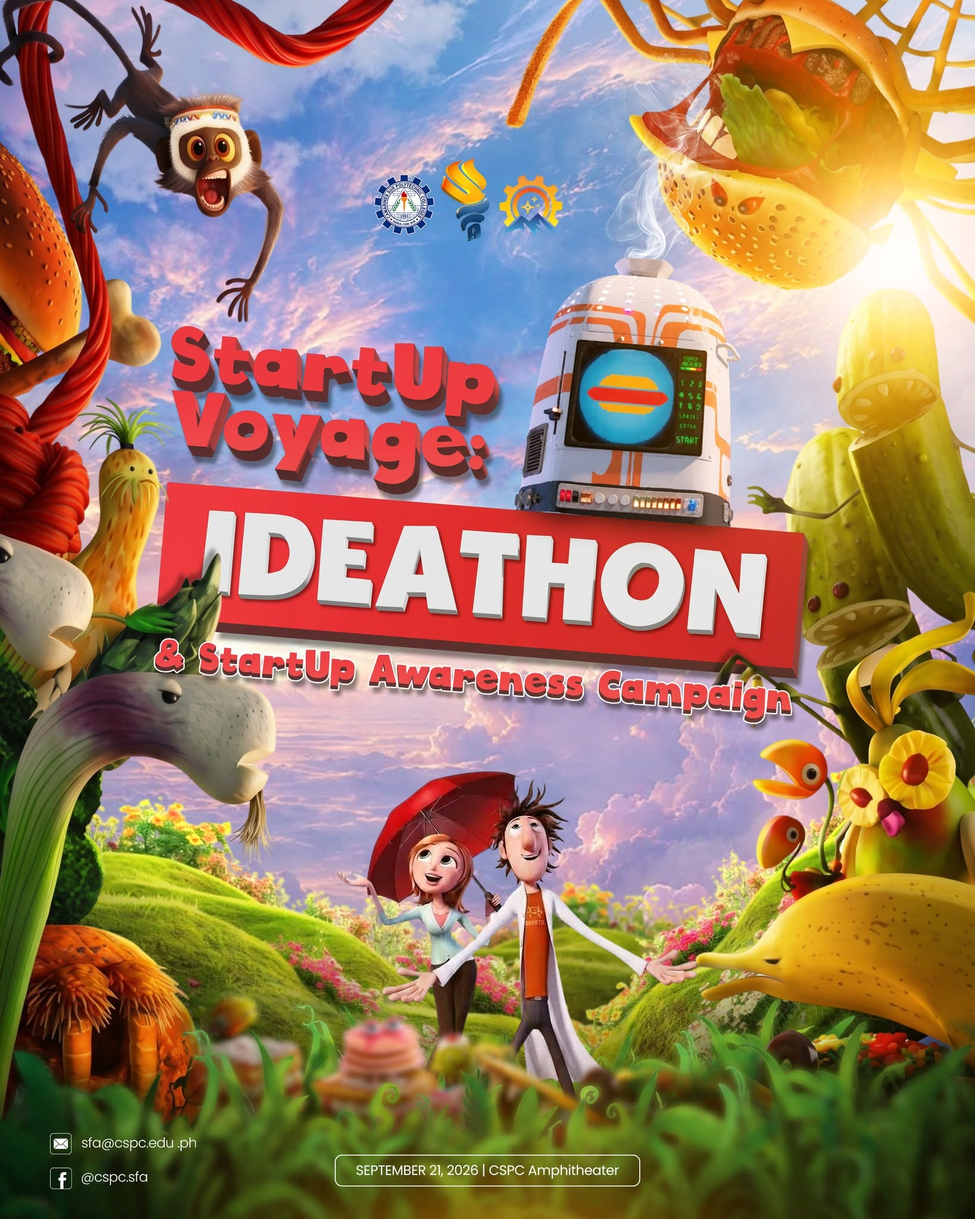embellishment: (560, 0, 975, 279), (365, 758, 656, 1098), (20, 8, 336, 306), (546, 246, 760, 538), (333, 1153, 642, 1189), (47, 1130, 73, 1157), (47, 1165, 73, 1191)
logo: (440, 160, 490, 242), (500, 171, 562, 234), (373, 174, 433, 234)
text: (155, 480, 810, 686), (356, 1163, 618, 1179), (81, 1136, 196, 1149), (81, 1170, 148, 1185)
underlay: (157, 482, 810, 677), (335, 1153, 642, 1189)
